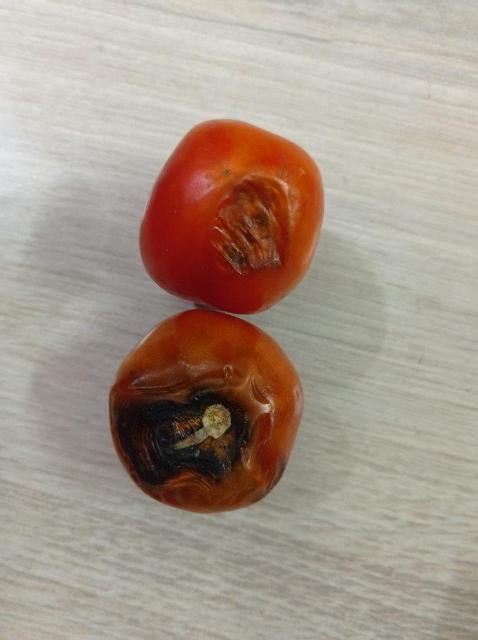defect: (108, 309, 306, 516), (136, 116, 330, 317)
